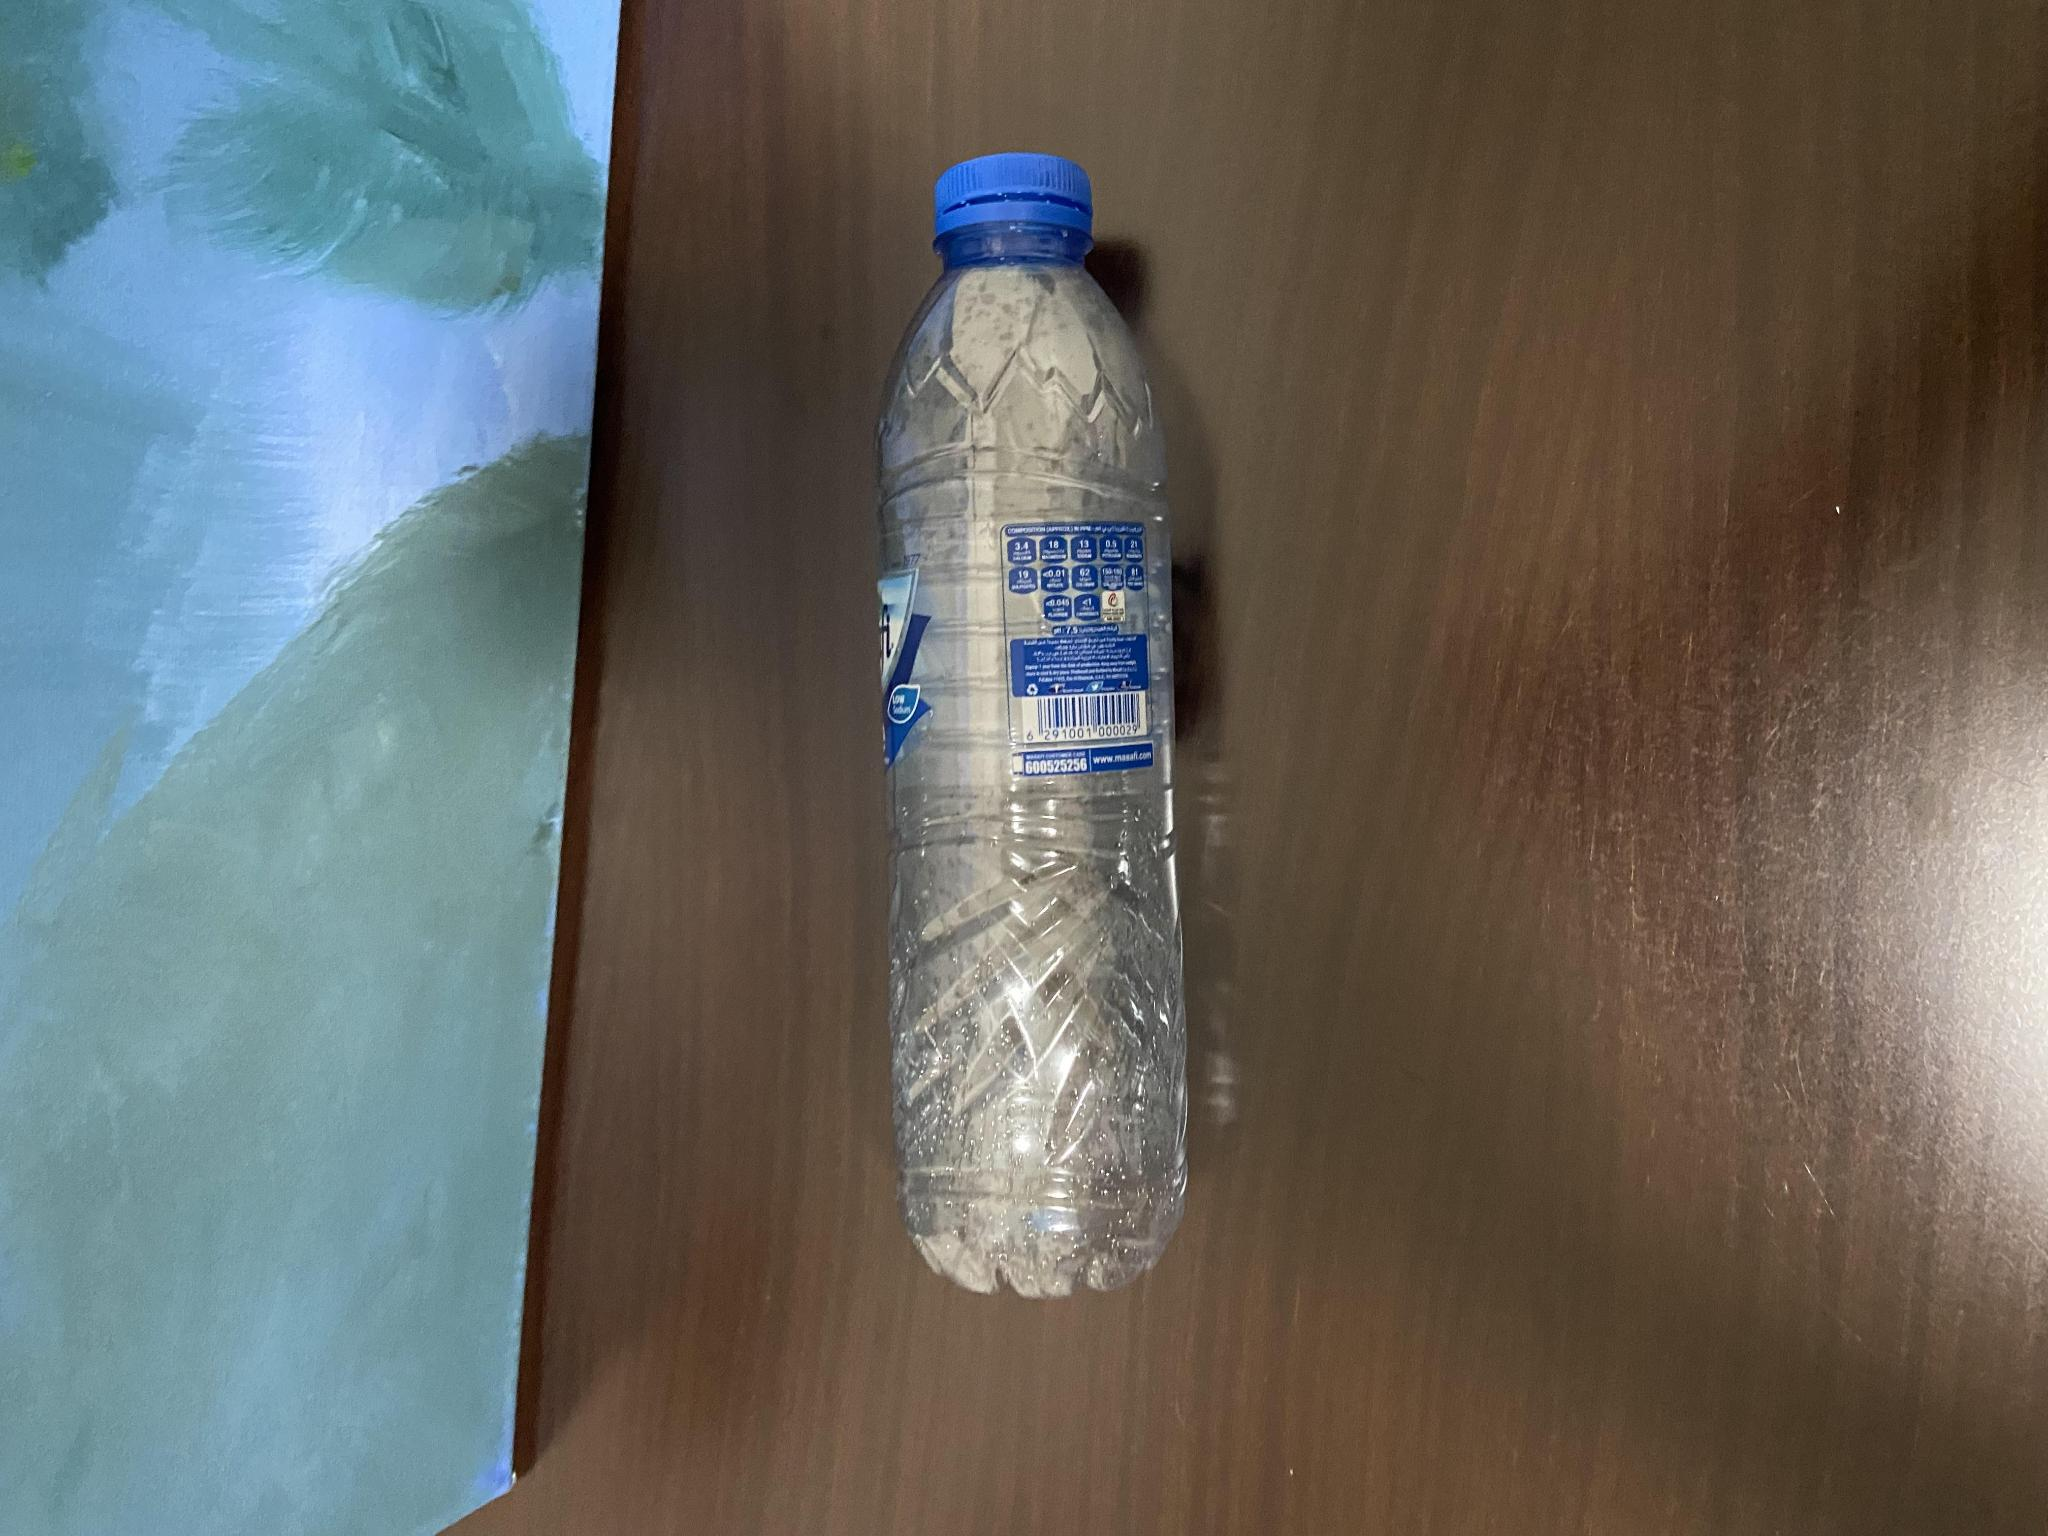bottle: (860, 142, 1216, 1312)
